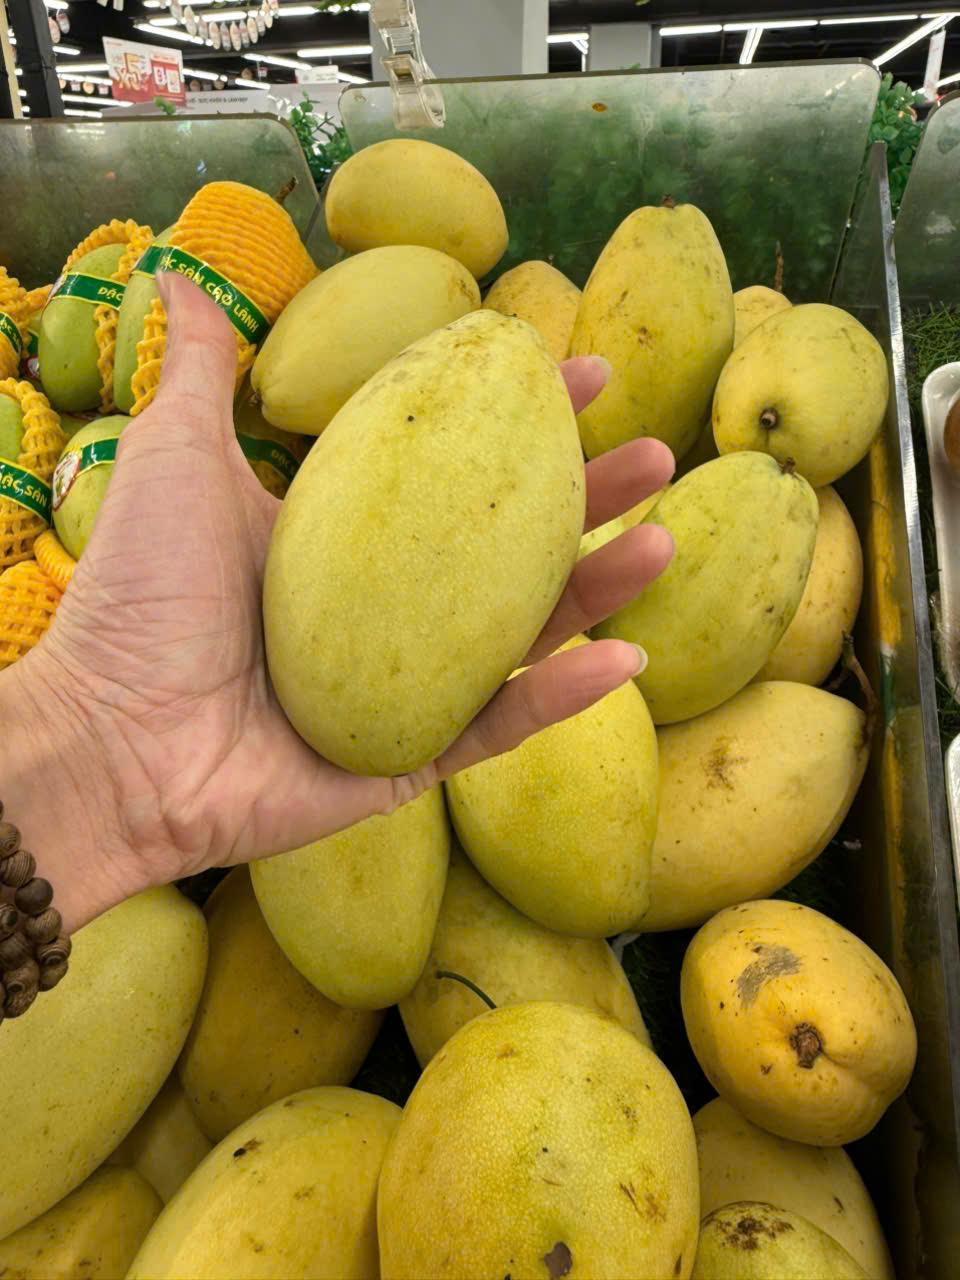mango: (248, 305, 584, 768), (352, 981, 702, 1280), (8, 888, 190, 1272), (445, 640, 670, 934), (625, 448, 828, 738), (685, 893, 912, 1152), (660, 686, 878, 908), (135, 1086, 382, 1280), (567, 198, 742, 466), (240, 771, 438, 1000), (265, 235, 474, 432), (315, 130, 518, 280), (710, 296, 884, 468)
